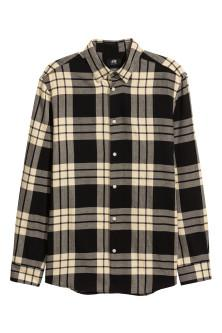teeshirt: (10, 36, 222, 295)
